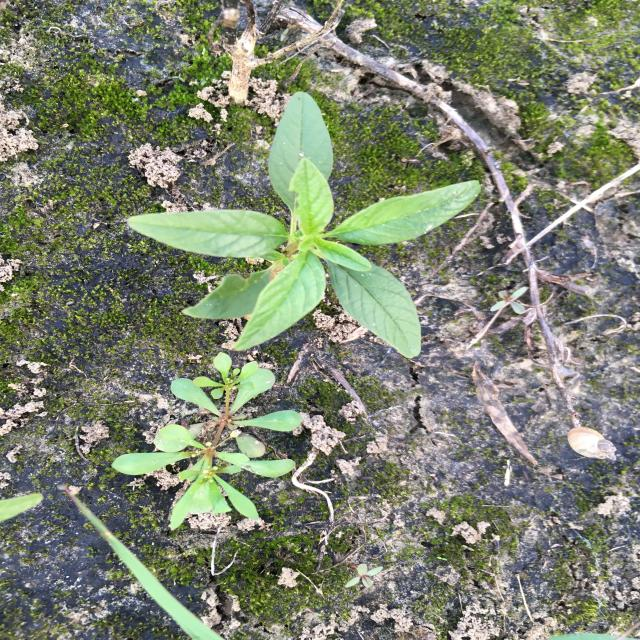Carpetweed: (110, 350, 307, 530)
Waterhemp: (124, 89, 484, 360)
